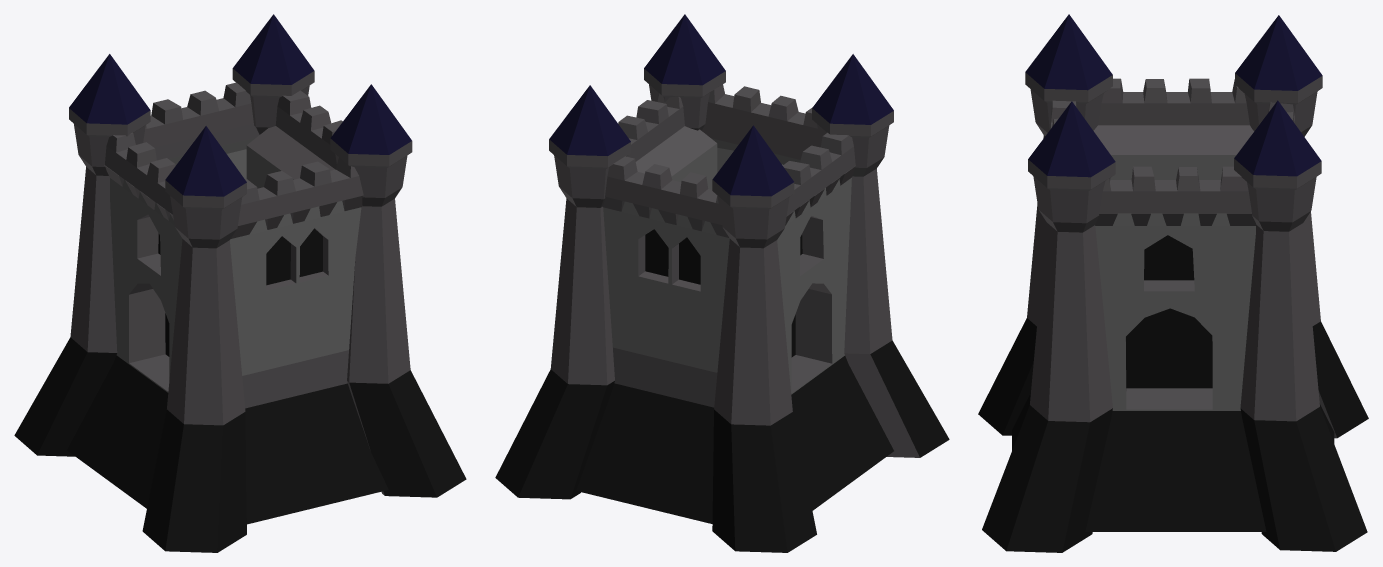
File: castle.glb
3 views of the same model, side by side, from view 1: azimuth 30°, elevation 25°; view 2: azimuth 150°, elevation 25°; view 3: azimuth 270°, elevation 25° (orthographic). The views are drawn at different scales.
Parts seen in each view (by area): view 1: Cube.001; view 2: Cube.001; view 3: Cube.001.
Part boxes in pixels (box(x1,y1,x2,y2)): Cube.001: box(14, 14, 466, 552); Cube.001: box(495, 14, 949, 552); Cube.001: box(978, 14, 1368, 552).
Size of the model in its own units: 0.8903 by 1.09 by 0.9282.
